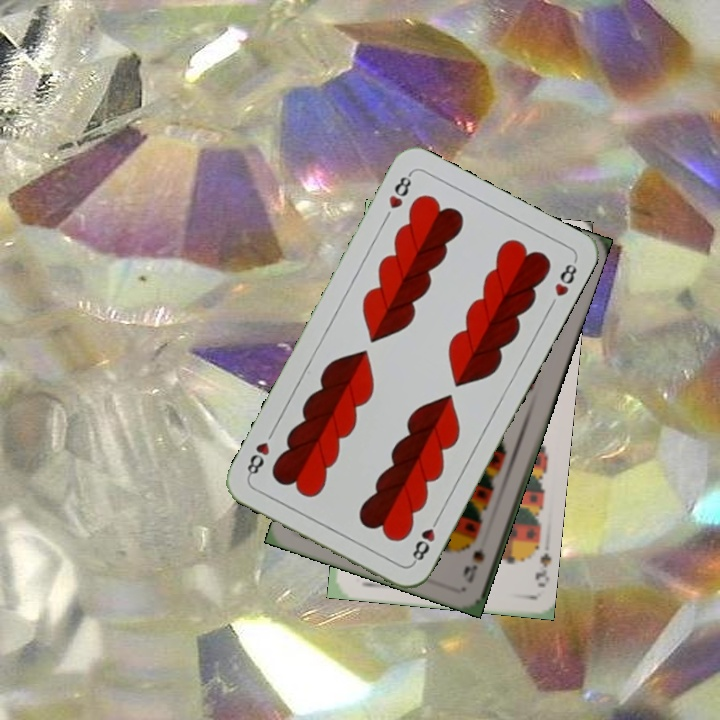H8: (408, 512, 442, 567), (384, 169, 415, 212)
S9: (526, 533, 552, 590), (458, 543, 487, 586)
